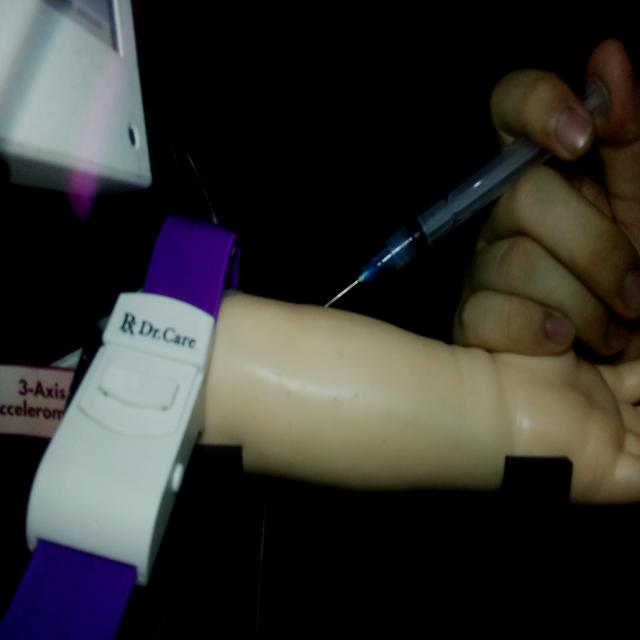29 degrees: (322, 74, 612, 310)
